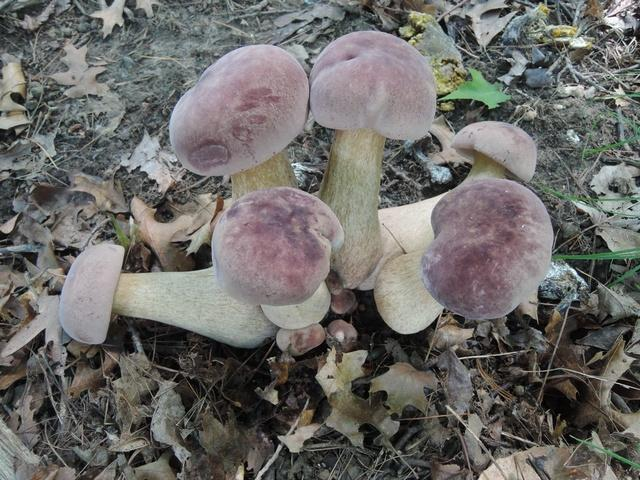poisonous_mushroom: (57, 42, 343, 349), (379, 122, 565, 342), (307, 29, 438, 289)
